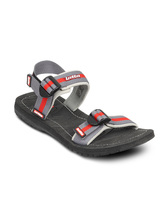shoes: (14, 58, 157, 160)
